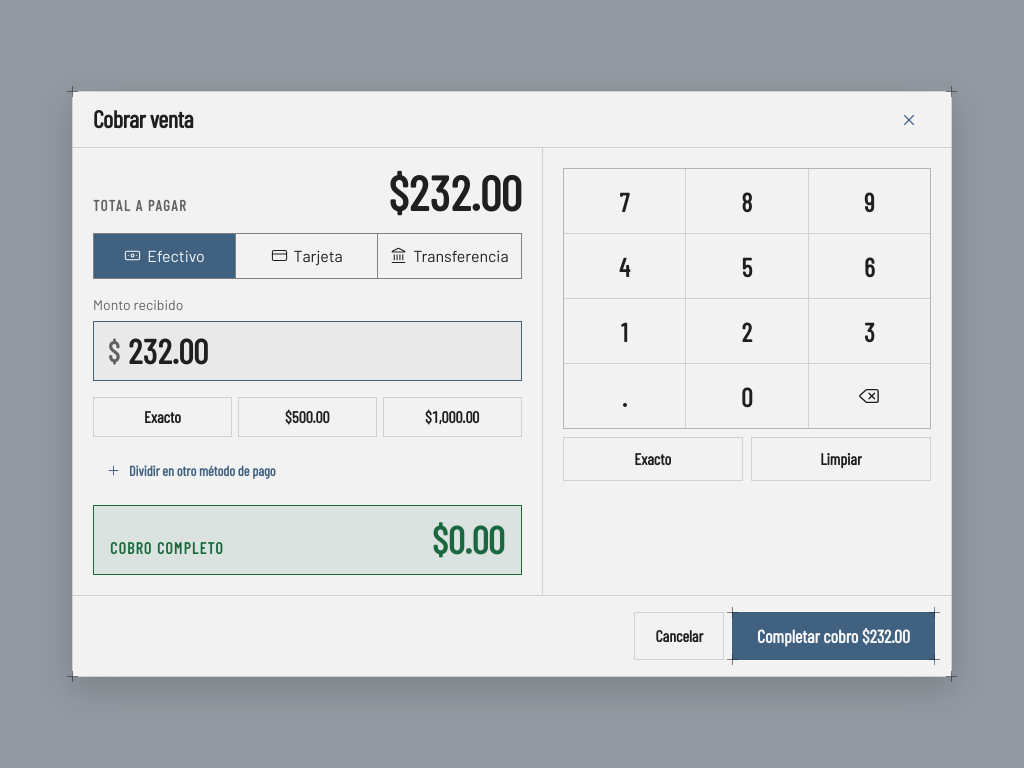
Test: PaymentModal: monto, teclado y cambio › con tarjeta se pide la referencia y no se muestra el cambio en efectivo
Click the radio button labelled "Tarjeta": coordinates (306, 256) [235, 234, 377, 278]
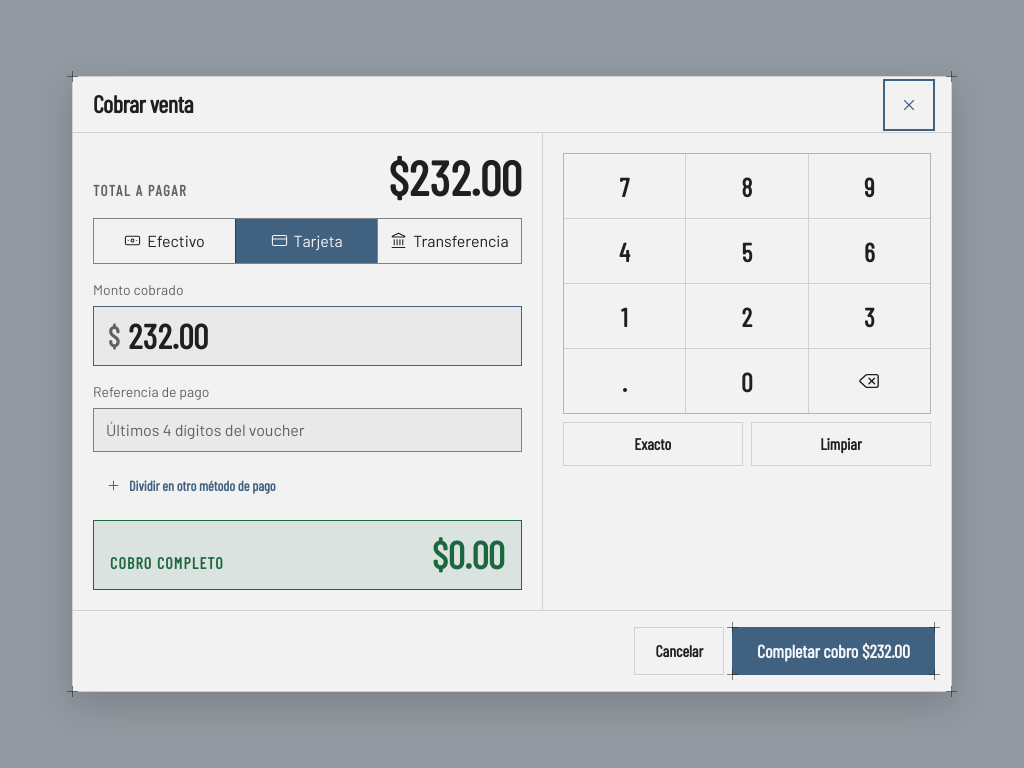
Expected: the field labelled "Referencia de pago" is shown, [93, 408, 522, 452]
Expected: the text "Monto cobrado" is shown, [93, 281, 184, 298]
